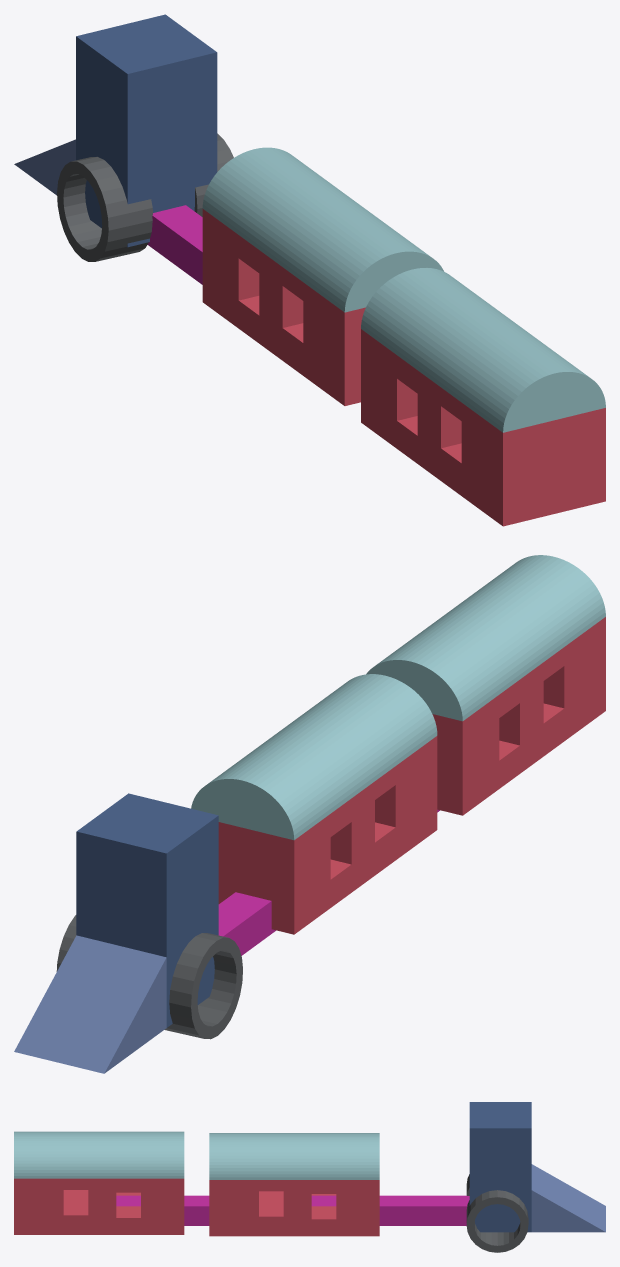
Rendered from Fabulous Turing-Stantia.glb.
3 views of the same model, one above another, from view 1: azimuth 30°, elevation 25°; view 2: azimuth 150°, elevation 25°; view 3: azimuth 270°, elevation 25° (orthographic). The views are drawn at different scales.
Parts seen in each view (by area): view 1: Mesh_Mesh_head_geo.001_lambert2SG.001; view 2: Mesh_Mesh_head_geo.001_lambert2SG.001; view 3: Mesh_Mesh_head_geo.001_lambert2SG.001.
Boxes of the visible parts, x1,y1,x2,y2 form: Mesh_Mesh_head_geo.001_lambert2SG.001: [14, 14, 605, 526]; Mesh_Mesh_head_geo.001_lambert2SG.001: [14, 555, 605, 1073]; Mesh_Mesh_head_geo.001_lambert2SG.001: [14, 1102, 605, 1252].
Size of the model in its own units: 30.17 by 42.09 by 191.
